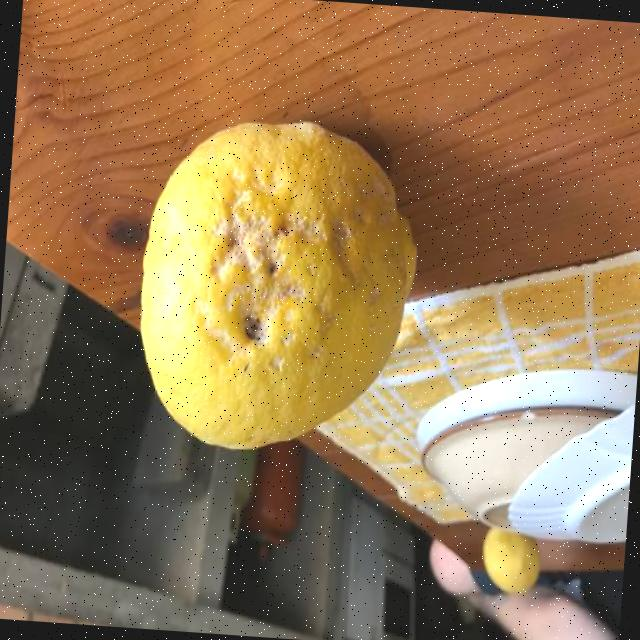overripe: (121, 107, 432, 466)
